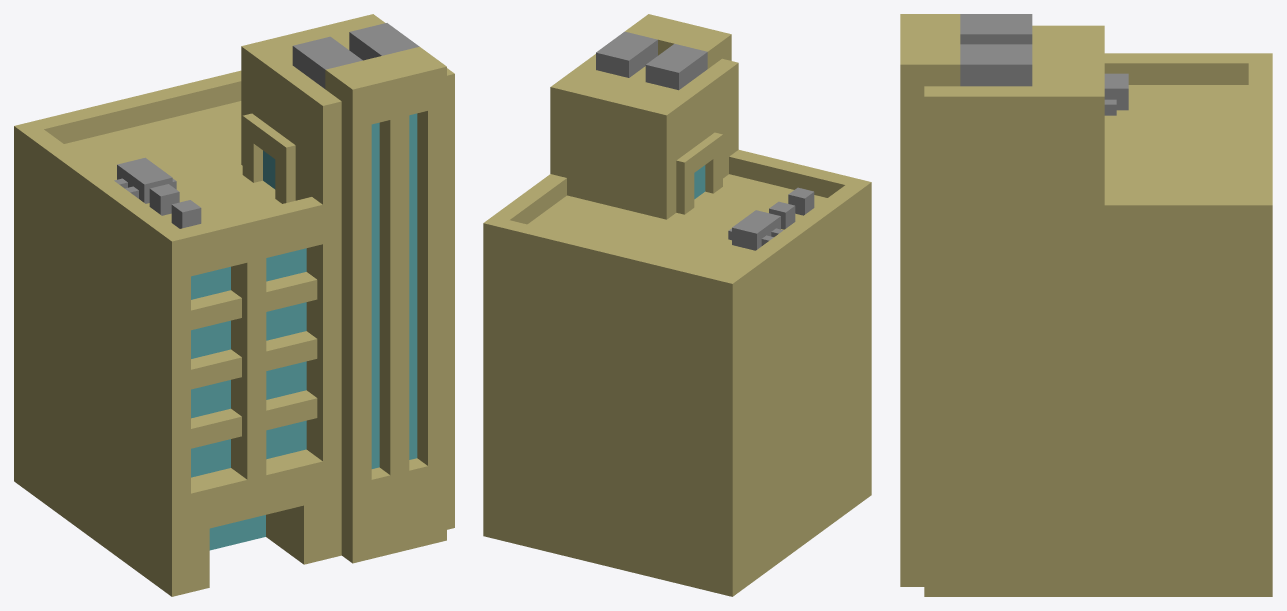
The model's file is Building01.fbx.
3 renders of one model, left to right at view 1: azimuth 30°, elevation 25°; view 2: azimuth 150°, elevation 25°; view 3: azimuth 270°, elevation 25°, orthographic. The views are drawn at different scales.
Parts seen in each view (by area): view 1: ObjObject.004; view 2: ObjObject.004; view 3: ObjObject.004.
Part boxes in pixels (x1=…): ObjObject.004: x1=14, y1=14, x2=454, y2=596; ObjObject.004: x1=483, y1=14, x2=871, y2=596; ObjObject.004: x1=900, y1=14, x2=1272, y2=596.
Size of the model in its own units: 300 by 310 by 480.
Materials: 1 (1 with a texture image).
